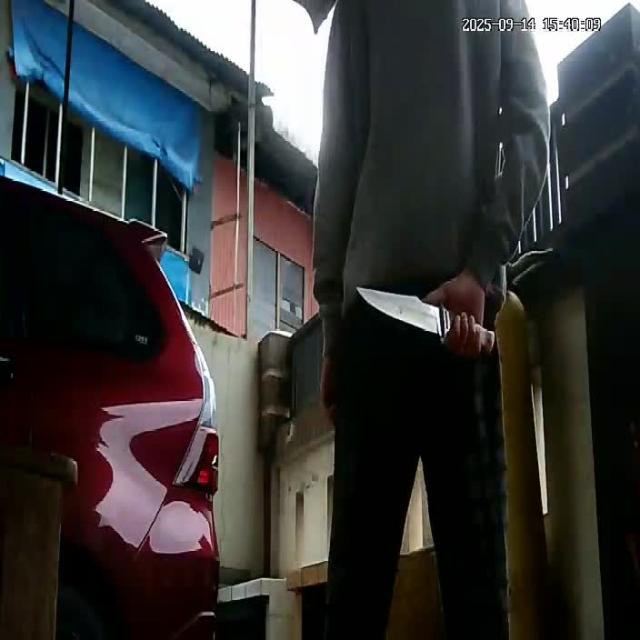senjata_tajam: (353, 283, 449, 340)
